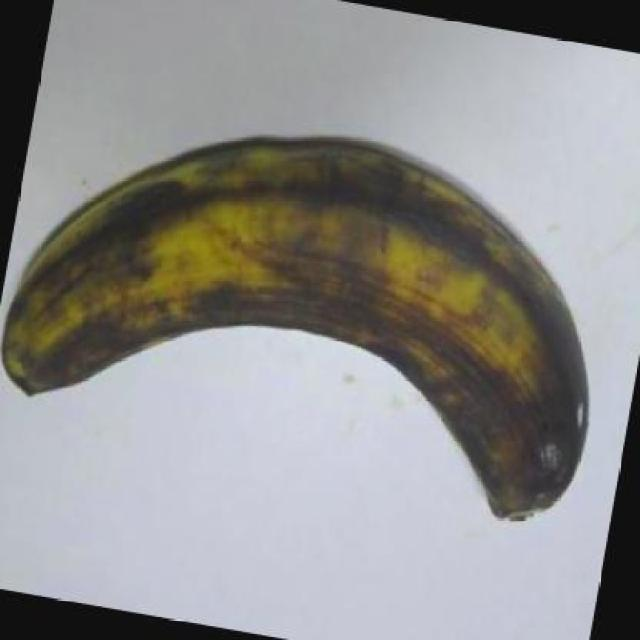overripe: (16, 108, 596, 504)
